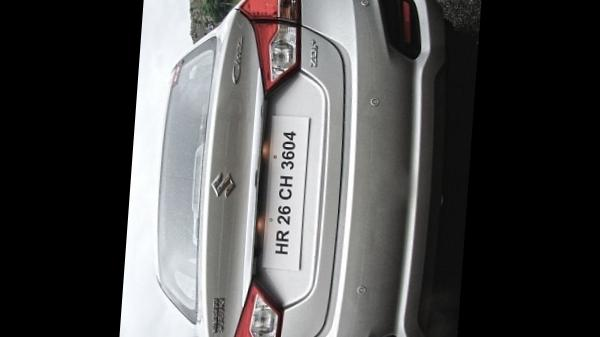plate: (254, 108, 318, 279)
